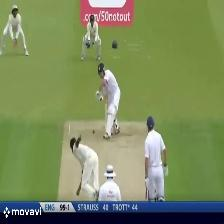ball: (90, 127, 99, 134)
batsman: (95, 61, 125, 141)
